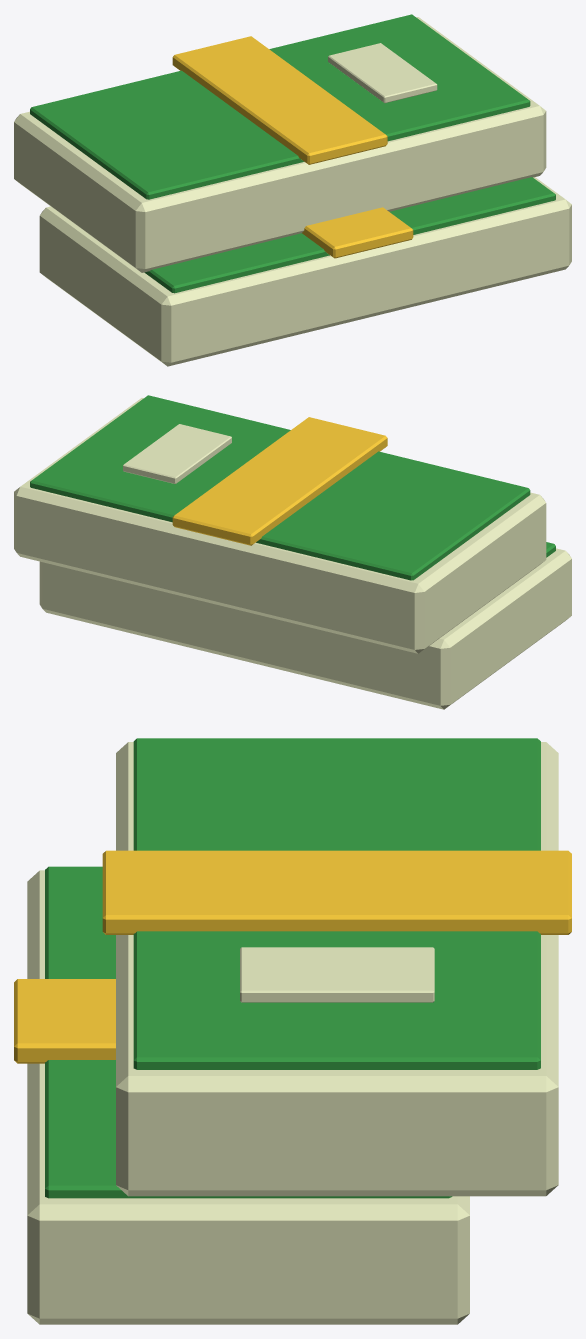
Rendered from money.glb.
3 views of the same model, one above another, from view 1: azimuth 30°, elevation 25°; view 2: azimuth 150°, elevation 25°; view 3: azimuth 270°, elevation 25° (orthographic). The views are drawn at different scales.
Parts seen in each view (by area): view 1: Stacked banknotes, Stacked banknotes.001, Printed top.001, Paper binding.001, Printed top, Printed value.001, Paper binding; view 2: Stacked banknotes.001, Printed top.001, Stacked banknotes, Paper binding.001, Printed value.001; view 3: Printed top.001, Stacked banknotes.001, Stacked banknotes, Paper binding.001, Printed top, Printed value.001, Paper binding.
Boxes of the visible parts, box(x1,y1,x2,y2) form: Stacked banknotes: box(39, 177, 571, 366); Stacked banknotes.001: box(14, 17, 546, 272); Printed top.001: box(30, 14, 530, 199); Paper binding.001: box(172, 36, 387, 164); Printed top: box(144, 177, 555, 293); Printed value.001: box(328, 43, 437, 103); Paper binding: box(302, 207, 413, 258); Stacked banknotes.001: box(14, 398, 546, 653); Printed top.001: box(30, 395, 530, 580); Stacked banknotes: box(39, 548, 571, 709); Paper binding.001: box(172, 417, 387, 545); Printed value.001: box(123, 424, 231, 483); Printed top.001: box(133, 738, 540, 1069); Stacked banknotes.001: box(116, 742, 558, 1196); Stacked banknotes: box(27, 870, 469, 1324); Paper binding.001: box(102, 850, 571, 934); Printed top: box(45, 866, 452, 1198); Printed value.001: box(240, 947, 434, 1002); Paper binding: box(14, 979, 115, 1063).
Bounding box in the file's own units: 0.92 × 0.3425 × 0.63.
Materials: 3 (3 with a texture image).
